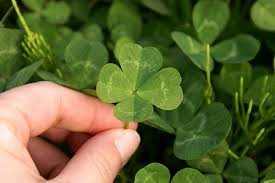4-clover: (96, 42, 185, 123)
